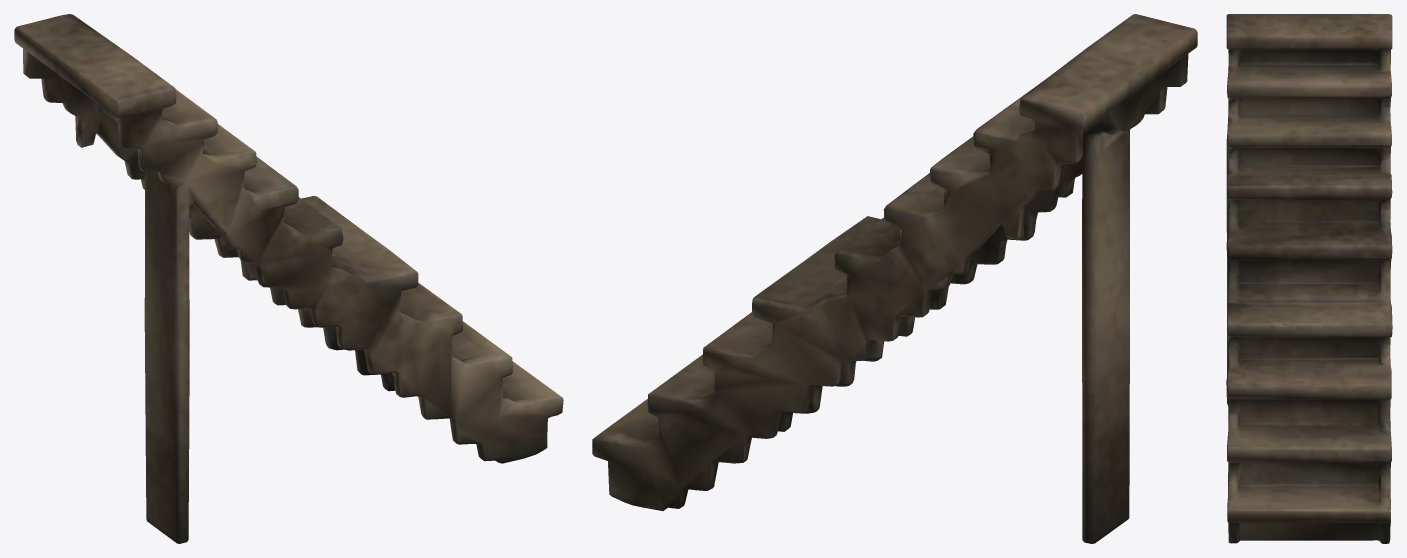
The model's file is old-wood-straight-staircase-v001.glb.
3 views of the same model, side by side, from view 1: azimuth 30°, elevation 25°; view 2: azimuth 150°, elevation 25°; view 3: azimuth 270°, elevation 25° (orthographic). The views are drawn at different scales.
Visible parts, largest first — view 1: old-wood-straight-staircase; view 2: old-wood-straight-staircase; view 3: old-wood-straight-staircase.
Boxes of the visible parts, left/top/right/bottom form: old-wood-straight-staircase: left=14, top=14, right=563, bottom=543; old-wood-straight-staircase: left=592, top=14, right=1197, bottom=543; old-wood-straight-staircase: left=1226, top=14, right=1392, bottom=543.
Bounding box in the file's own units: 0.9658 × 0.9467 × 0.389.
Materials: 1 (1 with a texture image).
